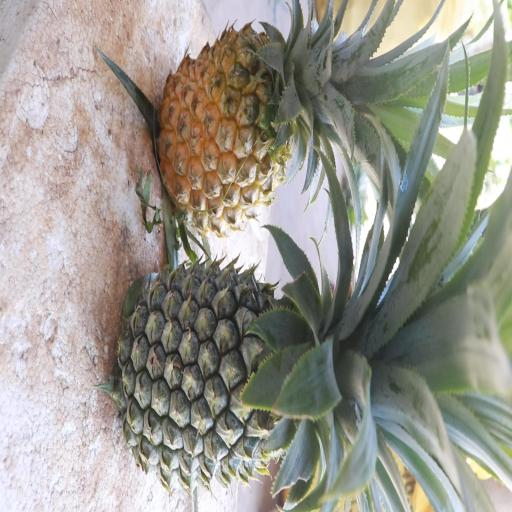Pineapple - v8 v1: (152, 18, 439, 230)
